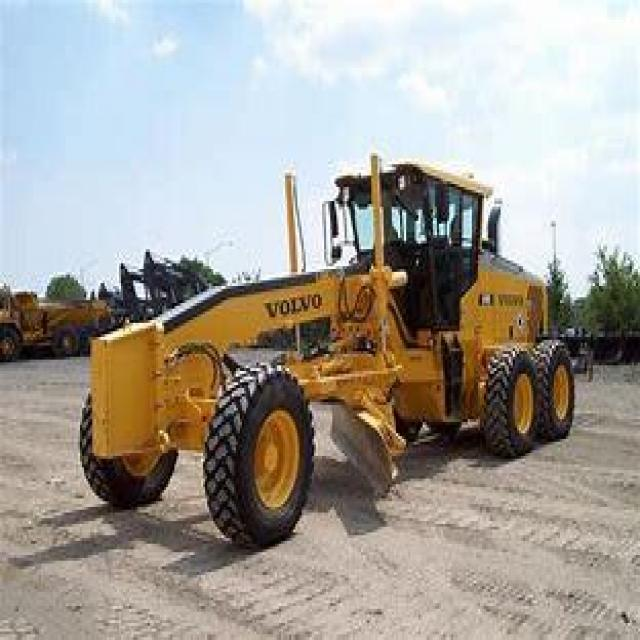Grader: (76, 147, 595, 547)
